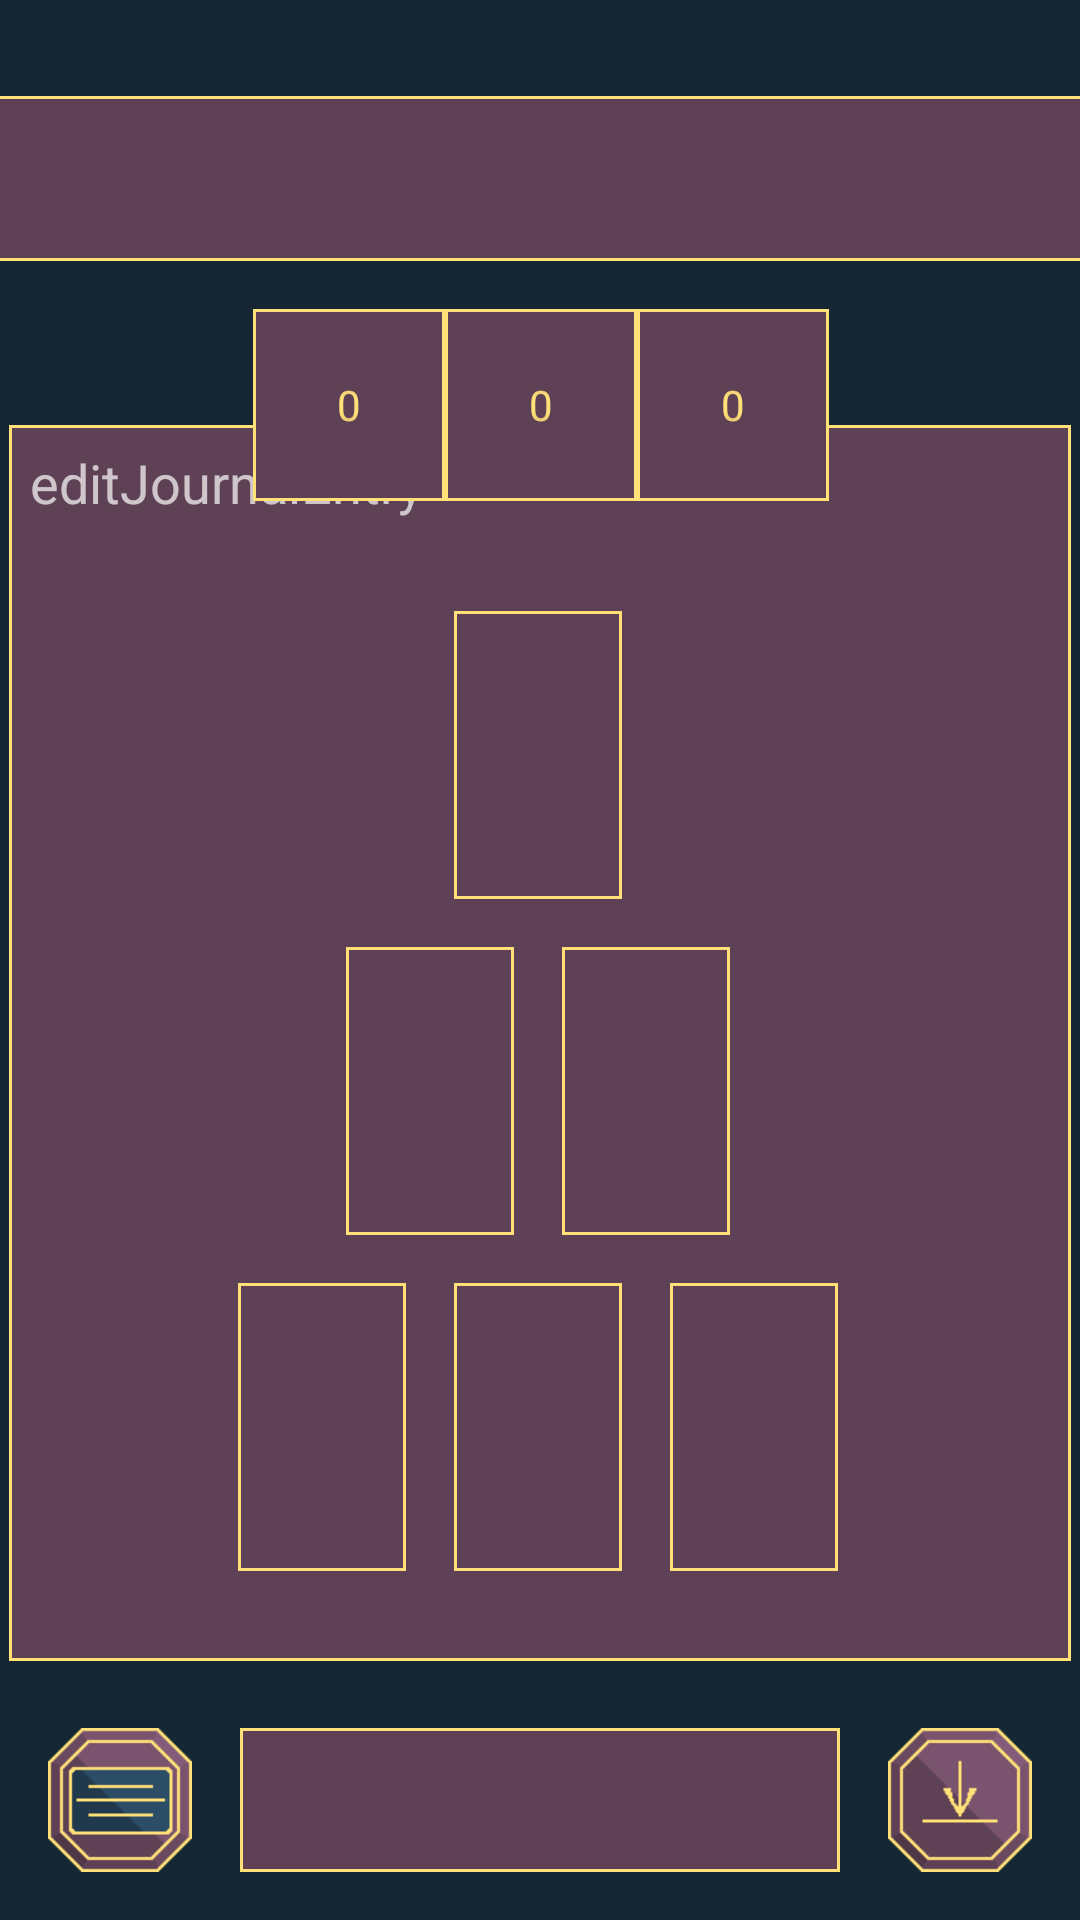

Icons on this 1080 × 1920 Android screen, each with the point to tap as (x,y):
save: (960,1800)
